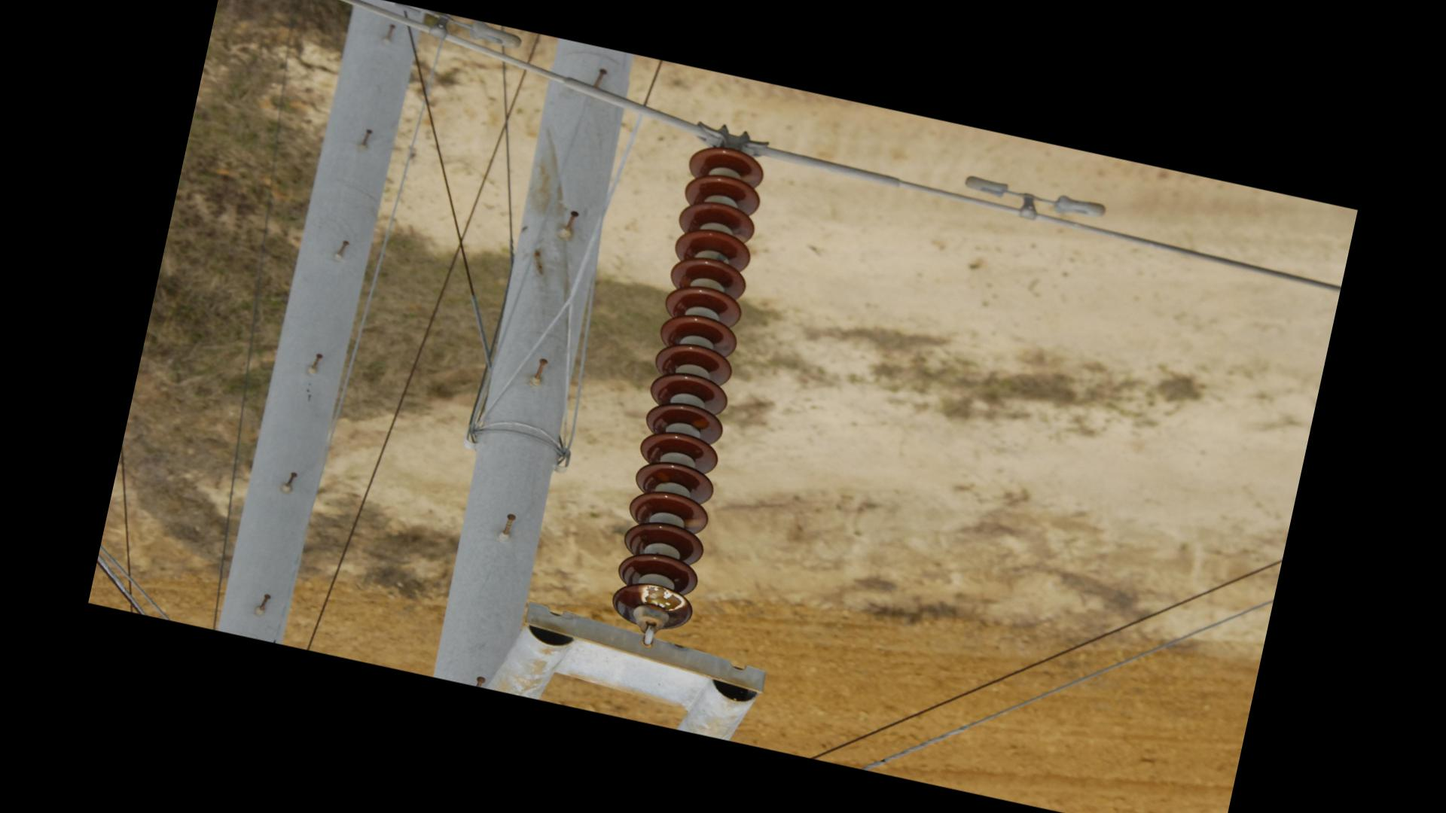damper: (954, 167, 1112, 241)
